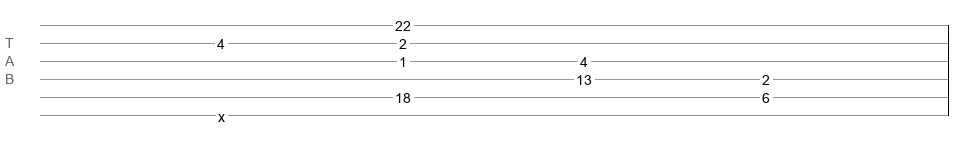1: (399, 54, 407, 64)
13: (576, 72, 592, 82)
18: (395, 90, 411, 100)
2: (399, 36, 407, 46), (762, 72, 770, 82)
22: (395, 18, 411, 28)
4: (217, 36, 225, 46), (580, 54, 588, 64)
6: (762, 90, 770, 100)
x: (218, 109, 225, 117)
